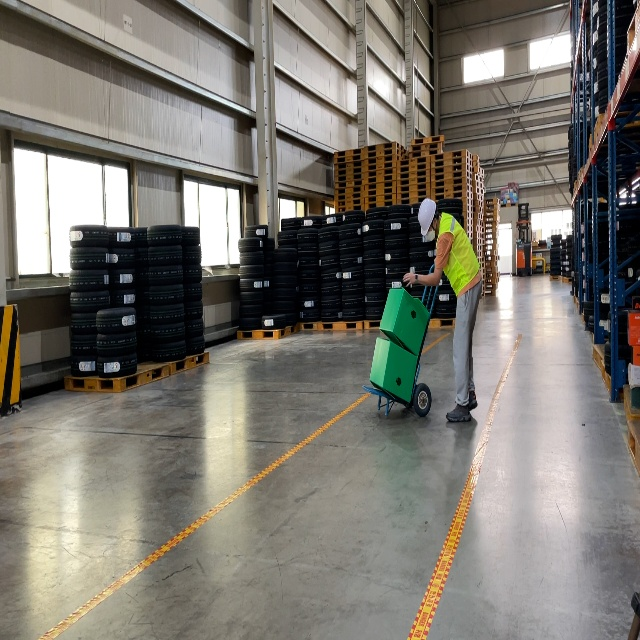Box: (378, 284, 431, 357), (369, 336, 419, 404)
Worker: (402, 197, 483, 423)
